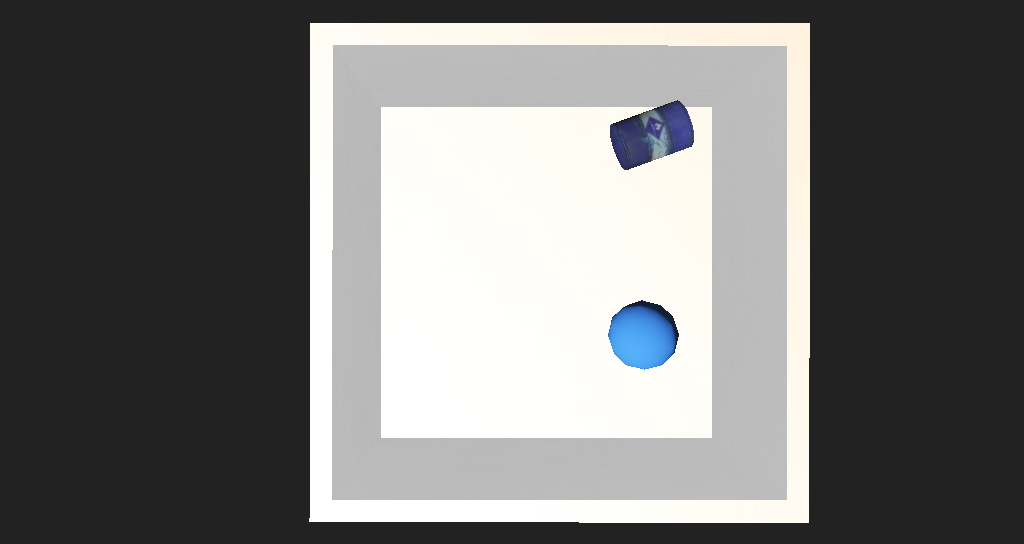cone: (559, 155, 640, 208)
sphere: (563, 289, 623, 332)
